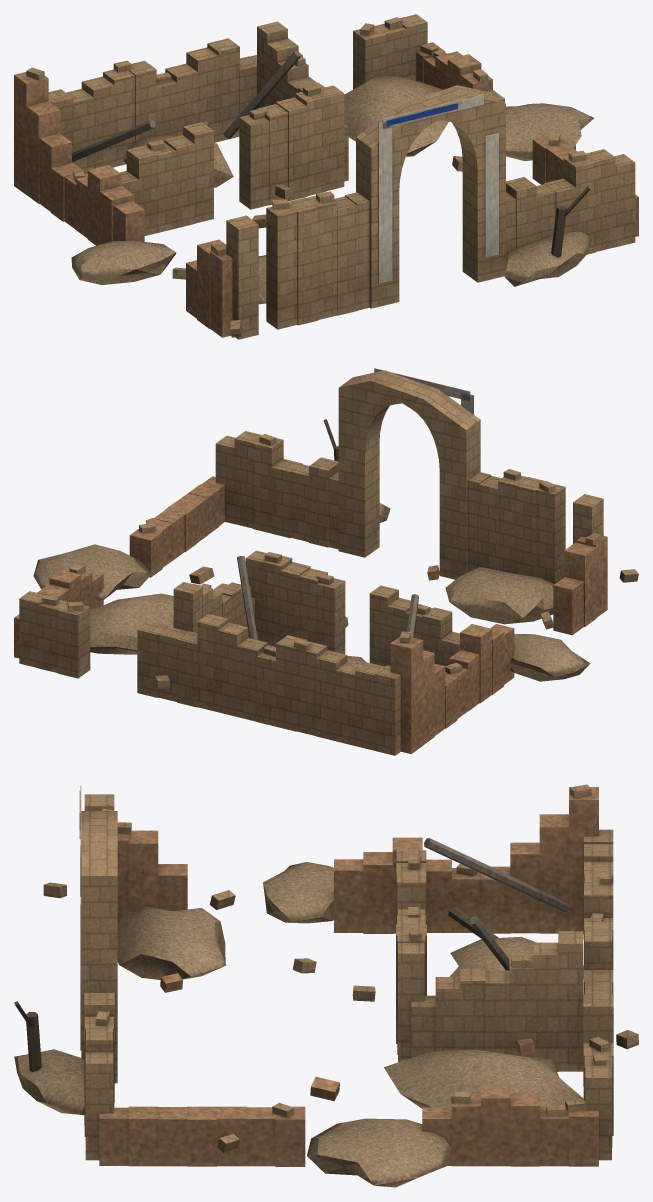
File: ruin.glb
3 renders of one model, top to bottom at view 1: azimuth 30°, elevation 25°; view 2: azimuth 150°, elevation 25°; view 3: azimuth 270°, elevation 25°, orthographic. The views are drawn at different scales.
Visible parts, largest first — view 1: Ruin; view 2: Ruin; view 3: Ruin.
Part boxes in pixels (left/top/right/bottom): Ruin: left=14, top=14, right=638, bottom=339; Ruin: left=14, top=368, right=638, bottom=755; Ruin: left=14, top=784, right=638, bottom=1187.
Size of the model in its own units: 14.63 by 4.8 by 12.02.
1 material, 1 textured.
